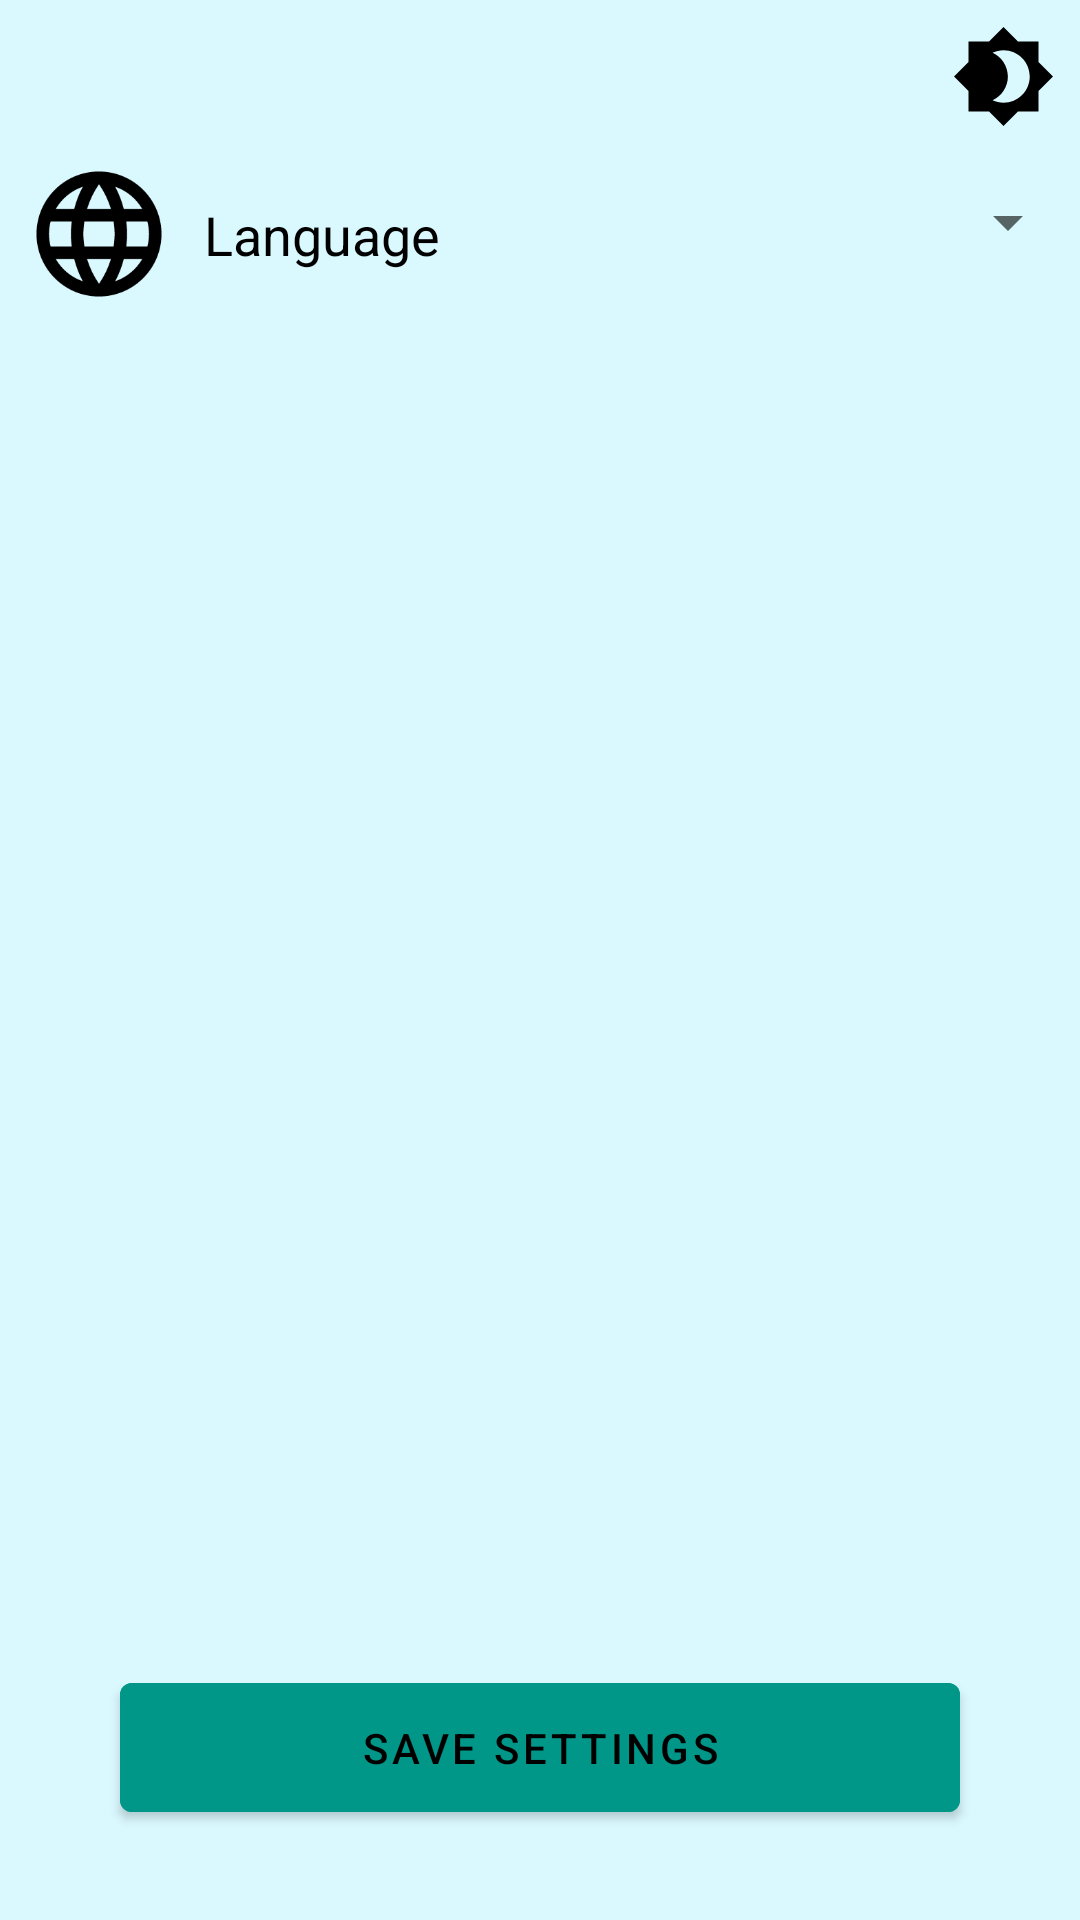

Where icons sit on this 1080 x 1920 app screen, as (x1, y1, x2, y2):
brightness: (954, 27, 1053, 126)
